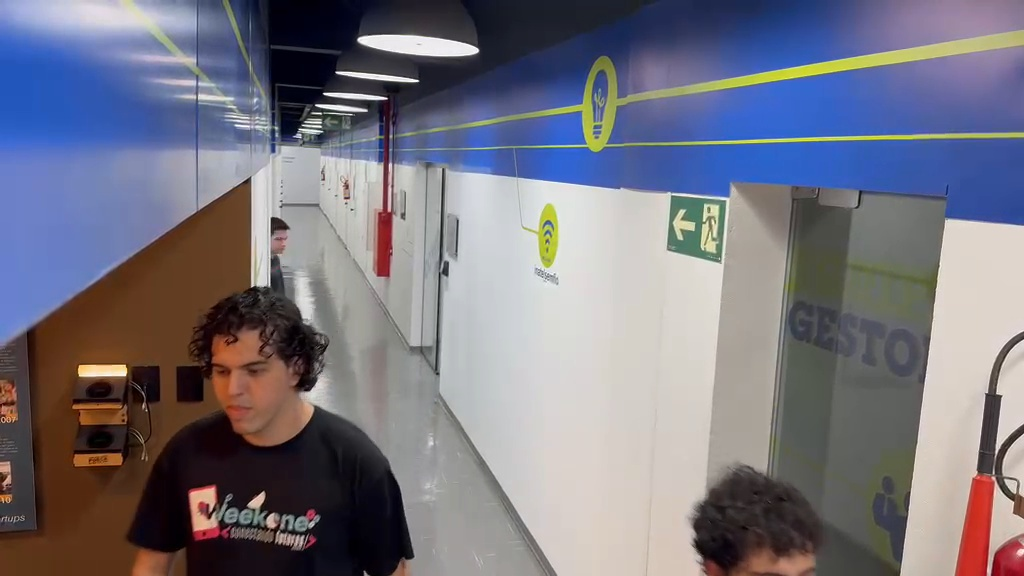person: (124, 286, 416, 573), (688, 465, 826, 575), (270, 217, 291, 276)
